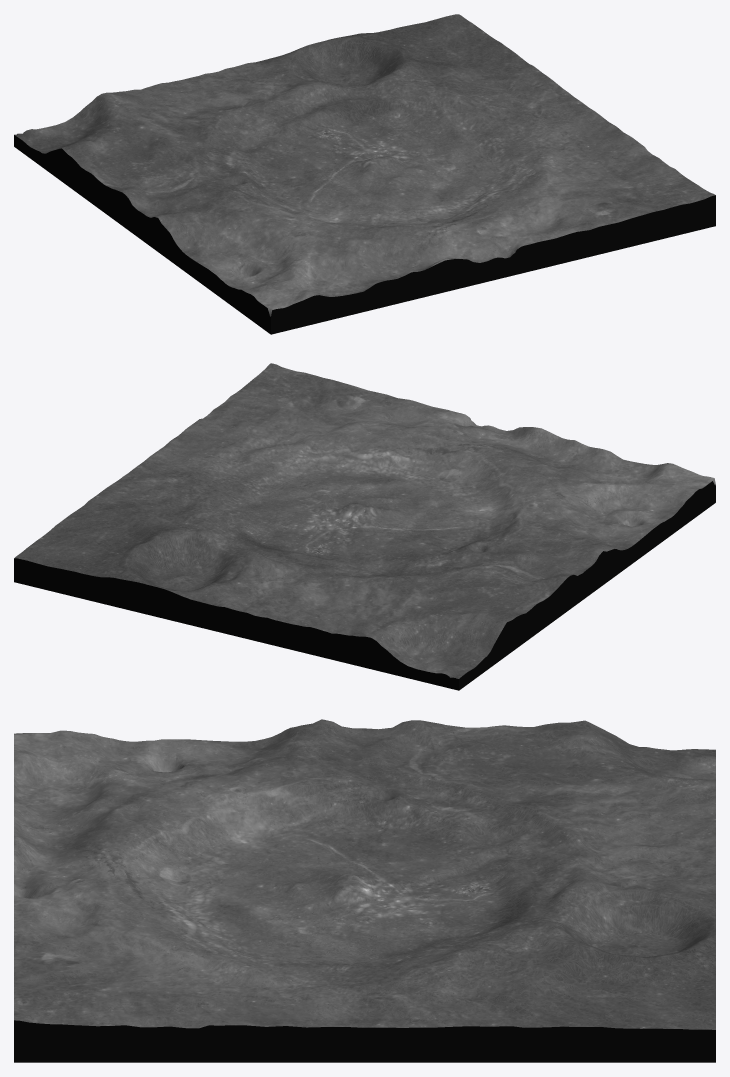
File: petavius.glb
The picture shows the model from 3 angles, top to bottom: view 1: azimuth 30°, elevation 25°; view 2: azimuth 150°, elevation 25°; view 3: azimuth 270°, elevation 25°; orthographic projection. The views are drawn at different scales.
Parts seen in each view (by area): view 1: Petavius_ZB_LP; view 2: Petavius_ZB_LP; view 3: Petavius_ZB_LP.
Boxes of the visible parts, x1,y1,x2,y2 form: Petavius_ZB_LP: [14, 14, 715, 334]; Petavius_ZB_LP: [14, 363, 715, 690]; Petavius_ZB_LP: [14, 719, 715, 1062].
Size of the model in its own units: 2.22 by 0.1829 by 2.22.
Materials: 2 (1 with a texture image).
